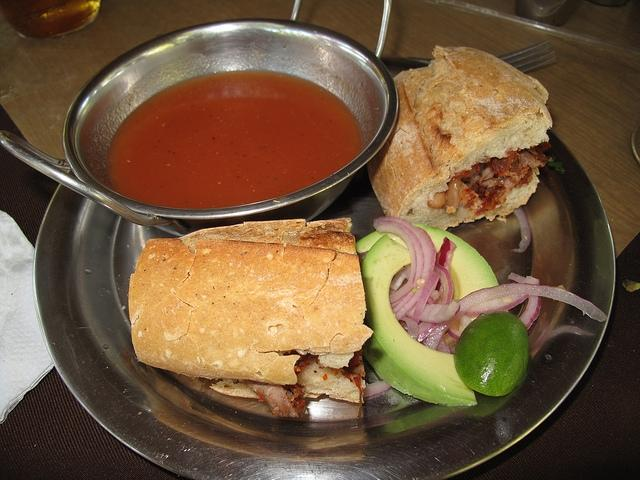avocado: (360, 234, 478, 406), (356, 224, 499, 321), (454, 311, 529, 396)
lime: (453, 310, 530, 396)
onion: (446, 272, 542, 342), (374, 215, 436, 321), (456, 283, 608, 322), (378, 220, 424, 314), (376, 224, 417, 304), (466, 276, 540, 317), (417, 262, 454, 343), (389, 288, 461, 324), (422, 312, 466, 350), (412, 272, 440, 324), (509, 206, 532, 253), (436, 236, 456, 272), (362, 380, 392, 400), (399, 316, 418, 340), (426, 296, 434, 305)
